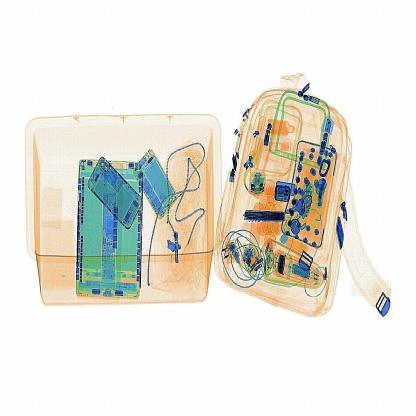scissors: (241, 206, 286, 228)
